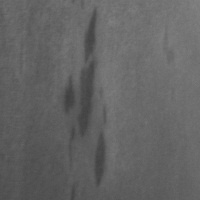inclusion: (62, 5, 109, 191), (87, 124, 113, 196), (159, 25, 180, 68), (59, 71, 78, 117)
